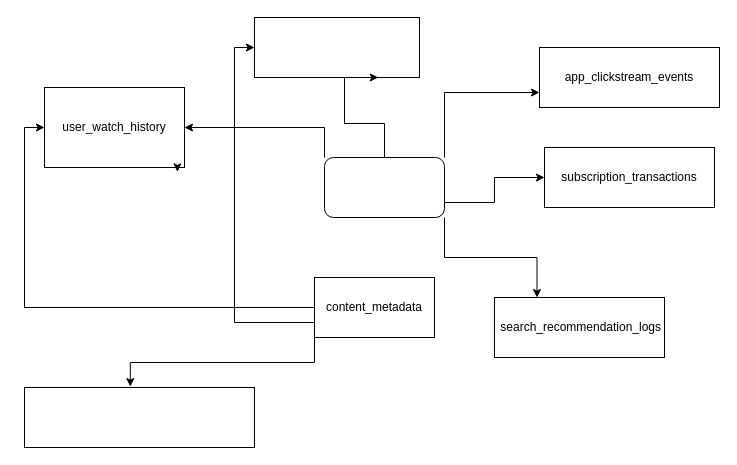
Image size: 737x465. Some labels were removed from this diagram. The centre of each missing label's shape, as x and y in pixels:
"cdn_buffering_logs" goes at point (139, 417).
"users" goes at point (384, 187).
"video_streaming_sessions" goes at point (337, 47).
